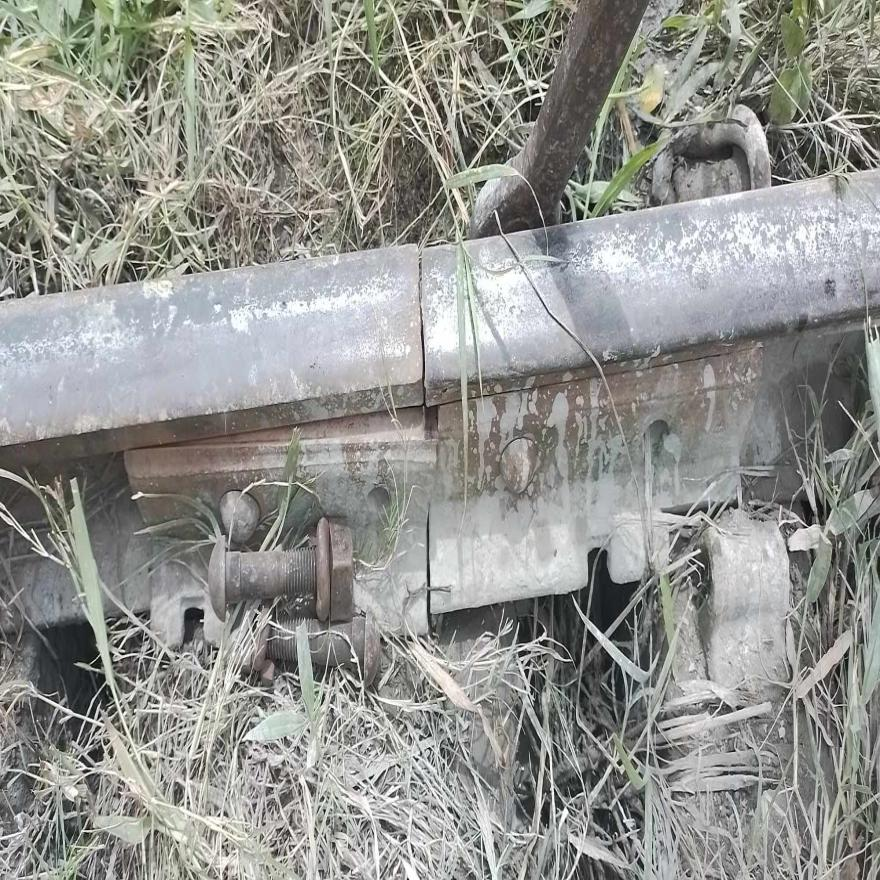railway-gap: (371, 401, 488, 656), (376, 204, 465, 404)
